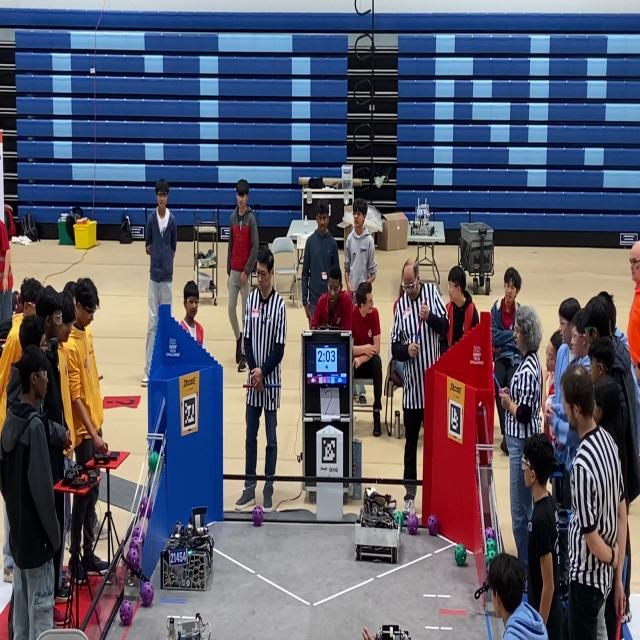artifact_green: (455, 544, 466, 567), (149, 451, 159, 472), (394, 511, 404, 530), (485, 550, 497, 565), (486, 539, 497, 552), (488, 550, 497, 561), (485, 566, 489, 583), (485, 553, 489, 566)
artifact_purple: (120, 600, 133, 626), (141, 582, 154, 606), (427, 514, 439, 536), (126, 549, 139, 569), (140, 496, 151, 519), (407, 514, 418, 535), (252, 505, 263, 526), (130, 537, 141, 553), (132, 524, 143, 538), (136, 531, 145, 548), (485, 527, 496, 539), (486, 565, 489, 580)
